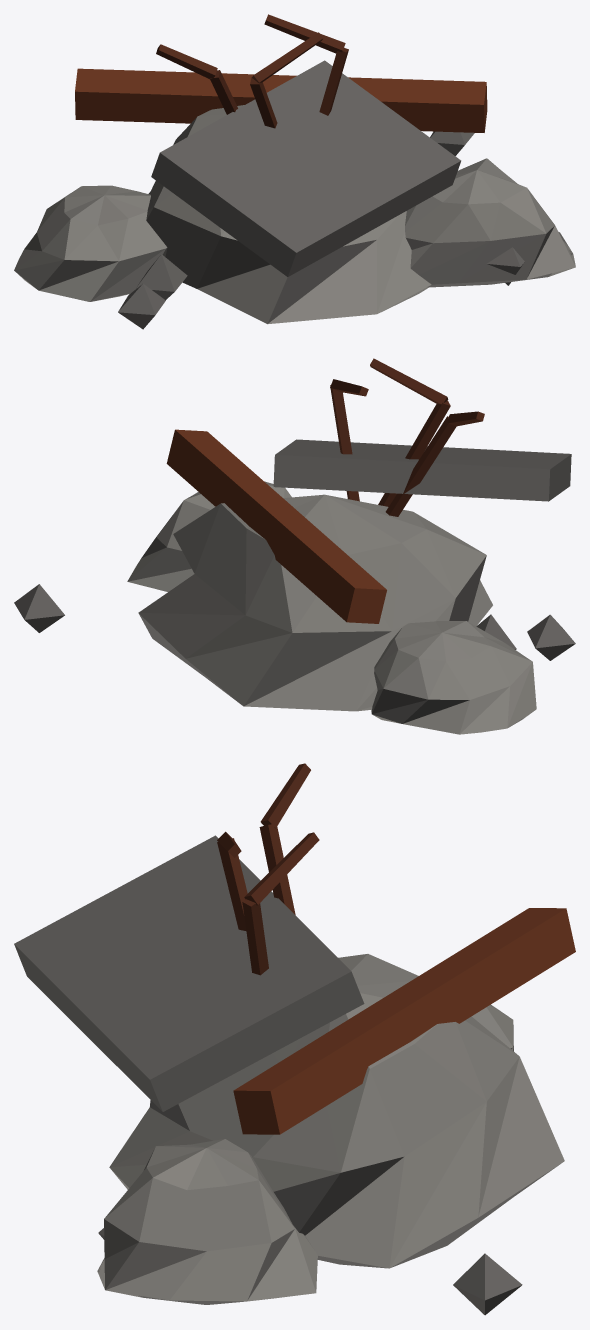
Rendered from rubble_heap.glb.
The picture shows the model from 3 angles, top to bottom: view 1: azimuth 30°, elevation 25°; view 2: azimuth 150°, elevation 25°; view 3: azimuth 270°, elevation 25°; orthographic projection. The views are drawn at different scales.
Parts seen in each view (by area): view 1: rubble_heap2; view 2: rubble_heap2; view 3: rubble_heap2.
Boxes of the visible parts, x1,y1,x2,y2 form: rubble_heap2: (14,14,575,329); rubble_heap2: (14,358,575,734); rubble_heap2: (14,763,575,1315).
Size of the model in its own units: 1.21 by 0.629 by 0.9652.
